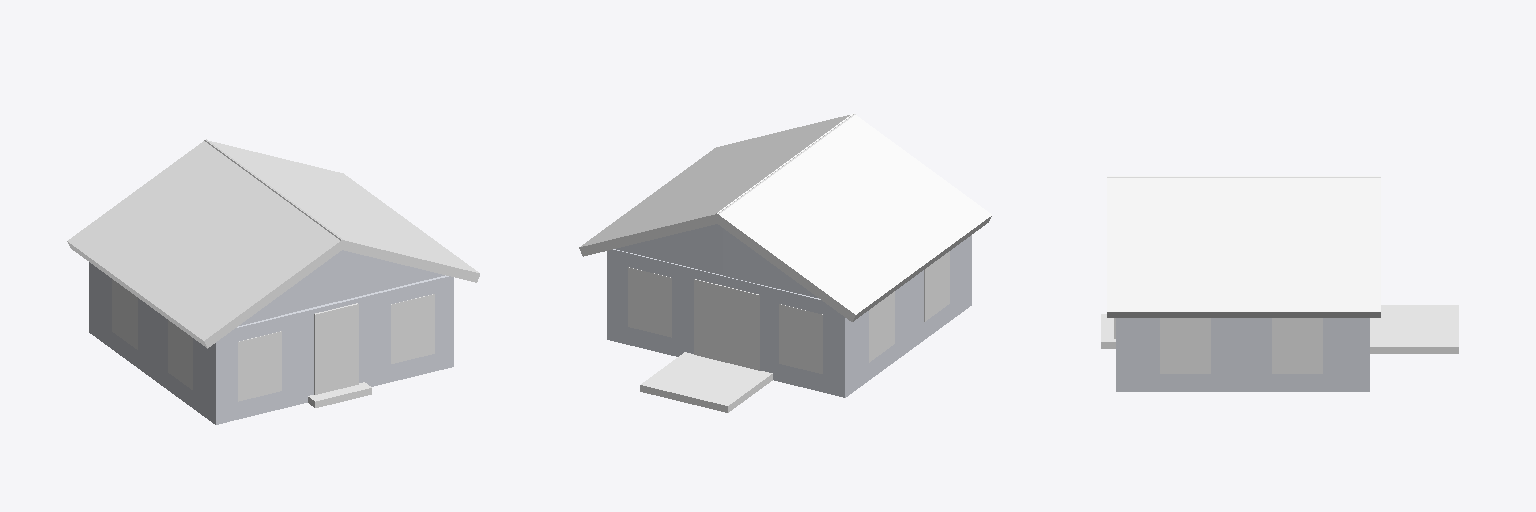
Rendered from house.obj.
The picture shows the model from 3 angles: view 1: azimuth 30°, elevation 25°; view 2: azimuth 150°, elevation 25°; view 3: azimuth 270°, elevation 25°; orthographic projection.
Visible parts, largest first — view 1: Box1, Back_Wall, Box2, Left_Wall, front_triangle, Front_Door, Front_Right_Window, Front_Left_Window, Right_Right_Window1, Right_Left_Window1, Right_Wall, Front_Stoop; view 2: Box1, Box2, Back_Wall1, Left_Wall, back_triangle, Back_Door, Patio, Back_Left_Window, Back_Right_Window, Right_Right_Window1, Right_Left_Window1, Right_Wall; view 3: Box2, Right_Wall, Patio, Right_Left_Window, Right_Right_Window.
Boxes of the visible parts, x1=… form: Box1: x1=67, y1=139, x2=342, y2=348; Back_Wall: x1=227, y1=276, x2=442, y2=421; Box2: x1=204, y1=140, x2=479, y2=282; Left_Wall: x1=89, y1=262, x2=226, y2=424; front_triangle: x1=239, y1=250, x2=444, y2=325; Front_Door: x1=314, y1=303, x2=358, y2=394; Front_Right_Window: x1=391, y1=294, x2=434, y2=363; Front_Left_Window: x1=238, y1=331, x2=281, y2=401; Right_Right_Window1: x1=112, y1=279, x2=137, y2=349; Right_Left_Window1: x1=168, y1=320, x2=192, y2=389; Right_Wall: x1=442, y1=275, x2=453, y2=369; Front_Stoop: x1=308, y1=382, x2=371, y2=407; Box1: x1=713, y1=113, x2=991, y2=321; Box2: x1=579, y1=114, x2=855, y2=256; Back_Wall1: x1=618, y1=250, x2=833, y2=394; Left_Wall: x1=834, y1=235, x2=971, y2=397; back_triangle: x1=616, y1=224, x2=817, y2=297; Back_Door: x1=694, y1=279, x2=759, y2=370; Patio: x1=640, y1=352, x2=772, y2=412; Back_Left_Window: x1=628, y1=267, x2=671, y2=337; Back_Right_Window: x1=779, y1=304, x2=822, y2=373; Right_Right_Window1: x1=869, y1=291, x2=894, y2=362; Right_Left_Window1: x1=924, y1=251, x2=949, y2=321; Right_Wall: x1=607, y1=249, x2=617, y2=341; Box2: x1=1107, y1=176, x2=1380, y2=317; Right_Wall: x1=1116, y1=318, x2=1369, y2=391; Patio: x1=1370, y1=305, x2=1458, y2=353; Right_Left_Window: x1=1160, y1=318, x2=1210, y2=373; Right_Right_Window: x1=1272, y1=318, x2=1322, y2=373.
Size of the model in its own units: 6.31 by 3.47 by 7.06.